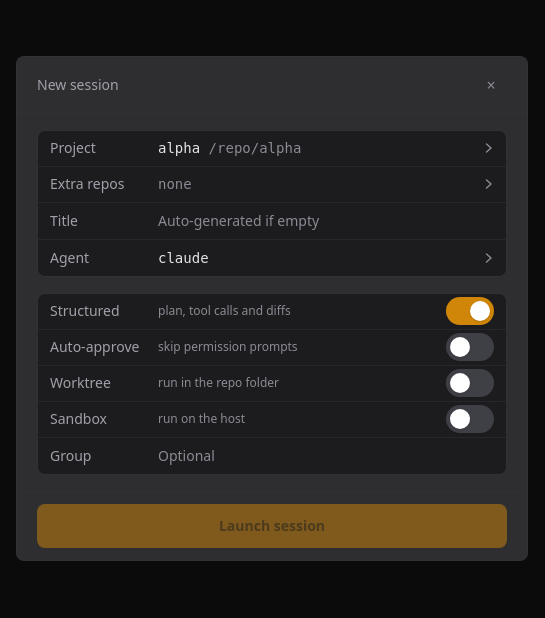
Test: project sandbox override on the remembered last-used path › when the project registry cannot be loaded › a failed same-project reselect while the initial lookup is still pending › nothing was ever resolved, so the project stays unresolved when the initial lookup fails too
Step 1. Click the text "Project" → (73, 148), box [50,138,96,157]
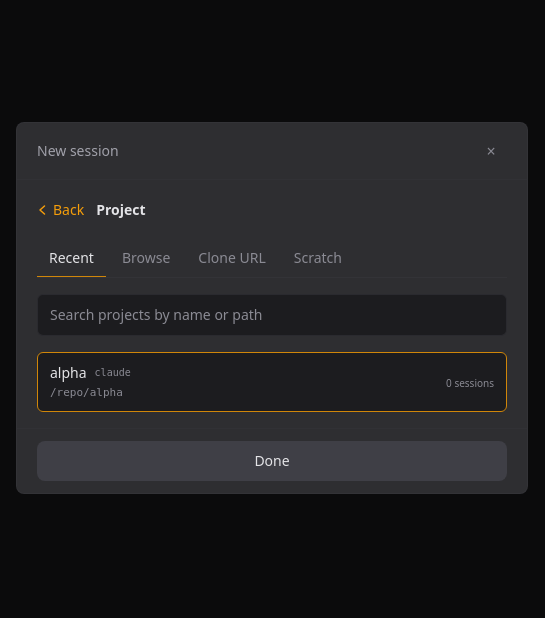
Step 2. Click the button "alpha claude /repo/alpha 0 sessions" → (68, 372), box [37,352,507,412]
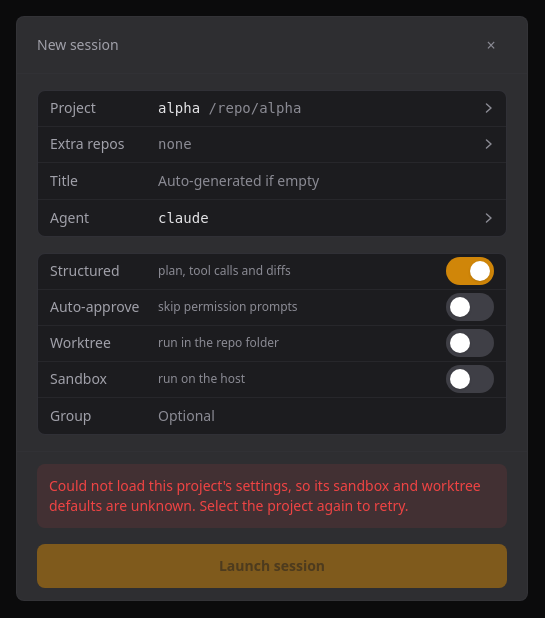
Check: the text "Could not load this project's settings" is shown, box [49,476,481,514]
Check: the button "Launch session" is disabled, box [37,544,507,588]
